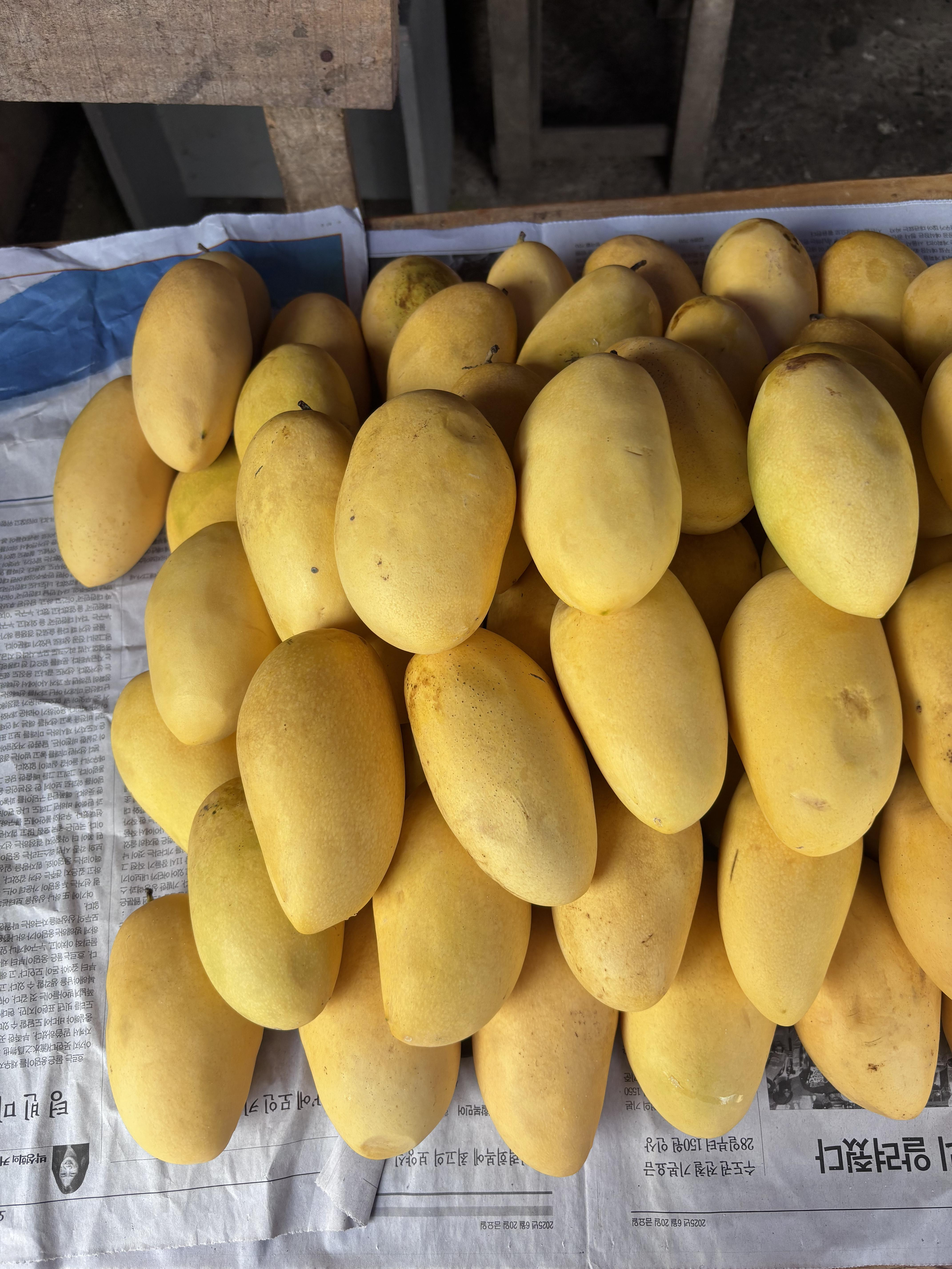mango: (237, 628, 404, 934), (334, 389, 516, 653), (748, 354, 919, 618), (515, 350, 682, 616), (131, 260, 252, 472)
occluded: (405, 629, 596, 906), (720, 569, 902, 856), (550, 571, 728, 834), (105, 893, 262, 1164), (622, 861, 775, 1138), (373, 784, 531, 1047), (300, 903, 460, 1160), (188, 778, 343, 1029), (473, 907, 617, 1177), (755, 343, 952, 538), (795, 859, 940, 1119), (553, 769, 703, 1012), (718, 774, 862, 1025), (145, 521, 280, 745), (610, 336, 753, 534), (236, 410, 359, 640), (54, 376, 175, 587), (111, 671, 239, 852), (518, 261, 663, 381), (886, 563, 952, 826), (703, 218, 819, 366), (879, 765, 952, 998), (386, 282, 516, 399), (234, 343, 358, 460), (361, 255, 461, 398), (264, 293, 372, 421), (665, 294, 769, 420), (818, 230, 926, 351), (582, 234, 700, 333), (670, 523, 761, 649), (450, 346, 543, 465), (488, 232, 572, 348), (794, 313, 918, 384), (198, 243, 271, 360), (487, 563, 558, 681), (166, 437, 240, 550), (901, 259, 952, 372), (922, 353, 952, 508), (364, 631, 413, 725), (495, 520, 532, 594), (401, 723, 426, 797)
